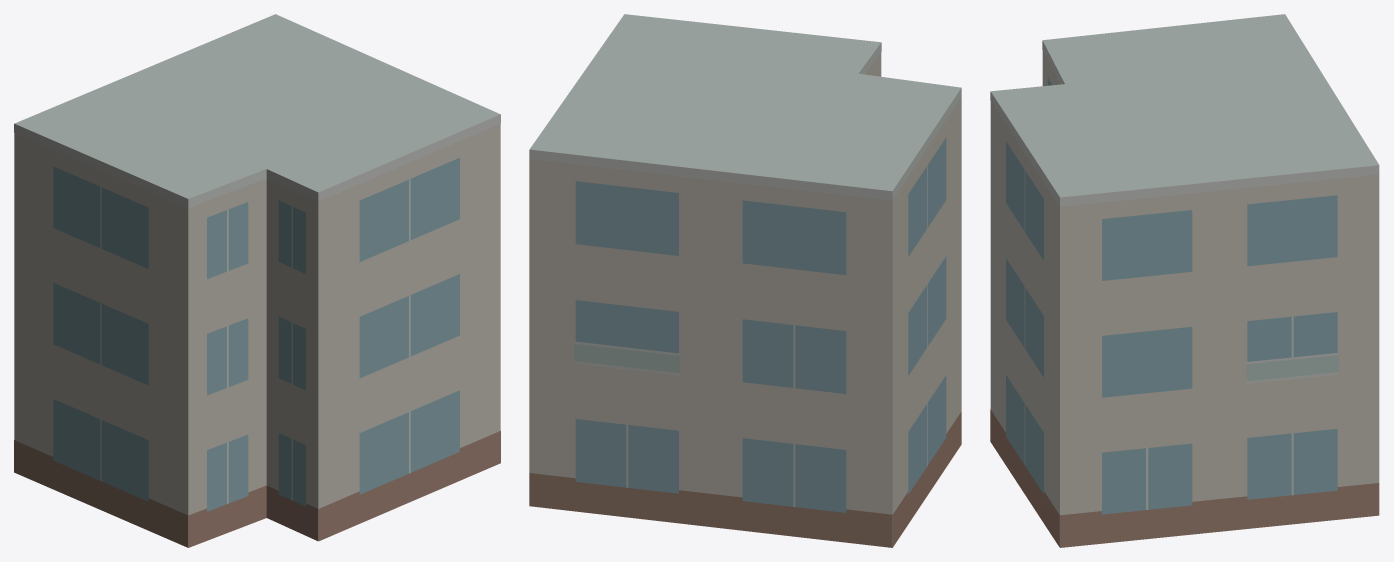
File: survey-upis-32822983.glb
3 views of the same model, side by side, from view 1: azimuth 30°, elevation 25°; view 2: azimuth 150°, elevation 25°; view 3: azimuth 270°, elevation 25° (orthographic). The views are drawn at different scales.
Parts seen in each view (by area): view 1: survey-upis-32822983.tmp; view 2: survey-upis-32822983.tmp; view 3: survey-upis-32822983.tmp.
Boxes of the visible parts, x1,y1,x2,y2 form: survey-upis-32822983.tmp: (14, 14, 500, 547); survey-upis-32822983.tmp: (529, 14, 961, 547); survey-upis-32822983.tmp: (990, 14, 1379, 547).
Size of the model in its own units: 10.34 by 9.2 by 9.27.
